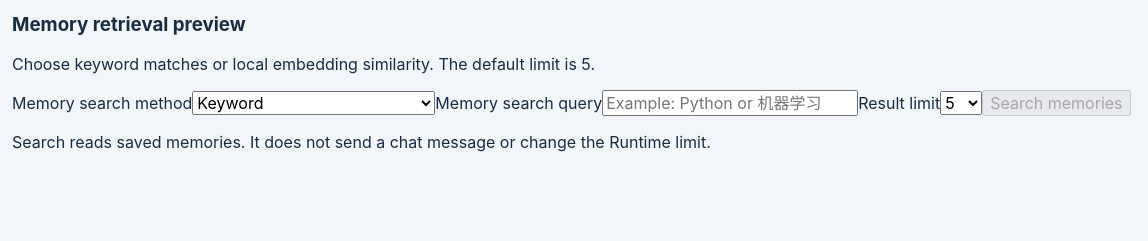
it: keeps the keyword endpoint as default and makes no requests on method selection
Select "Semantic (local embeddings)" in the dropdown labelled "Memory search method". click: (314, 103)
box: [192,91,435,115]
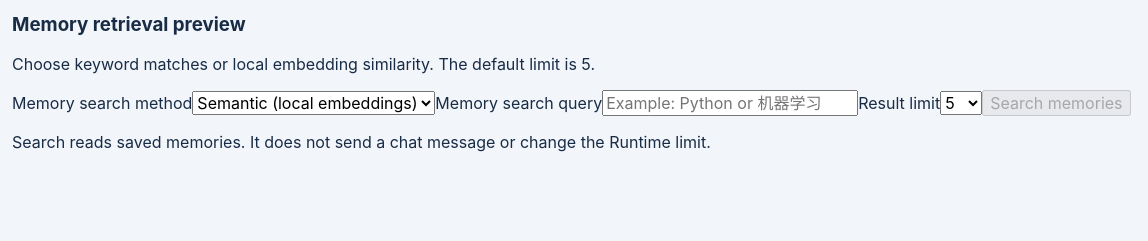
Type "  Keep it brief.  " into the field labelled "Memory search query". click: (730, 103)
box: [602,90,858,116]
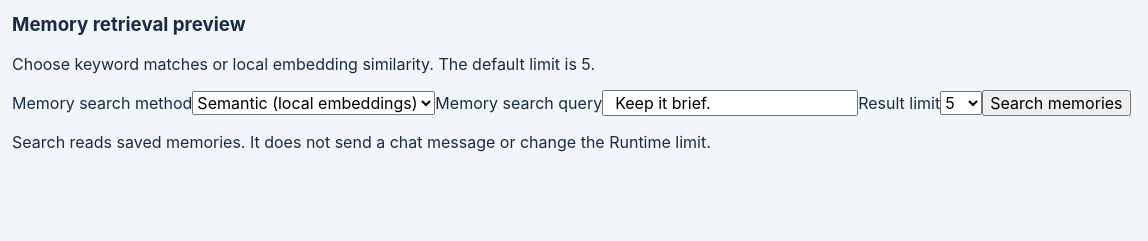
Select "Keyword" in the dropdown labelled "Memory search method". click: (314, 103)
box: [192,91,435,115]
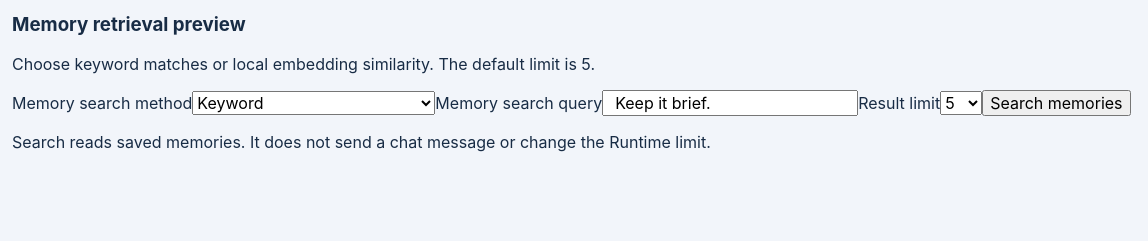
Click the button "Search memories". click: click(1056, 103)
box: [982,90,1131,116]
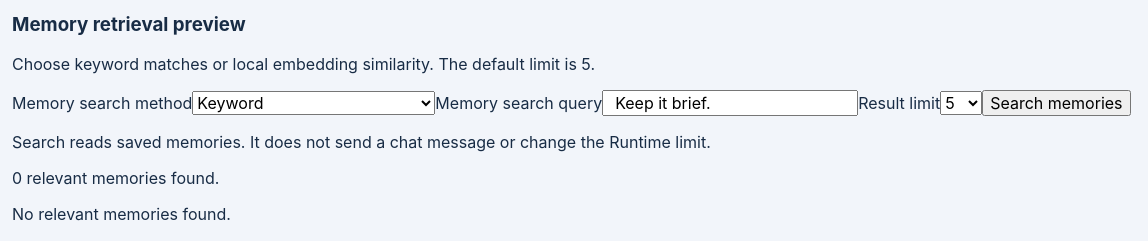
Expected: the text "No relevant memories found." is shown, [12,204,231,224]
